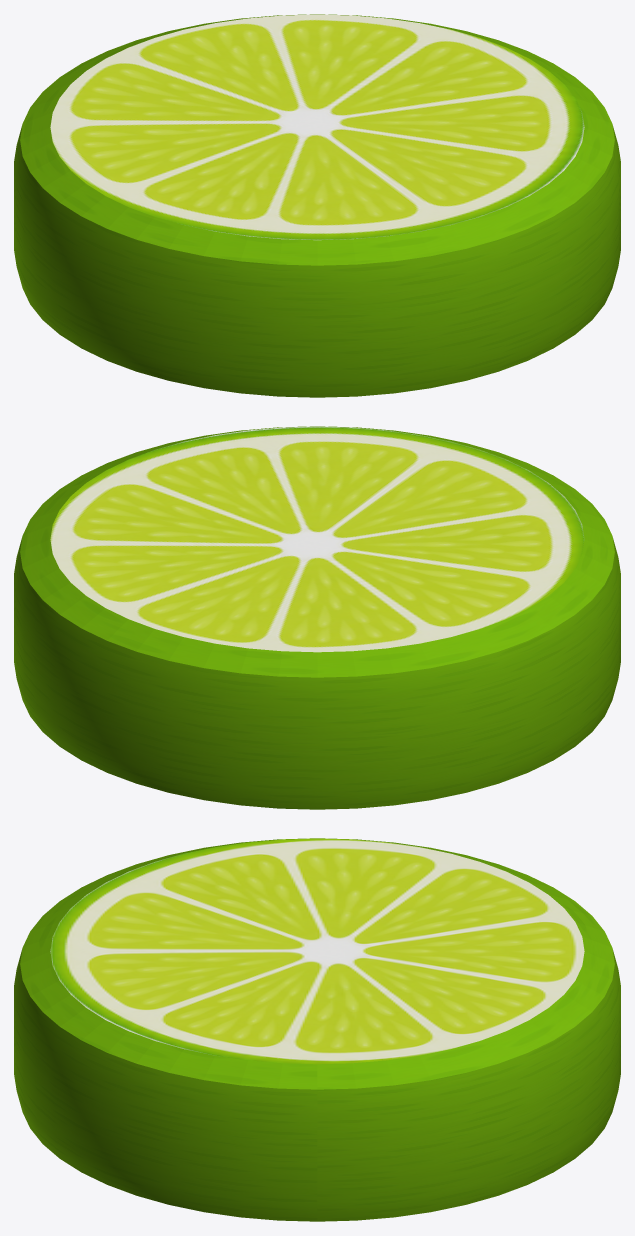
The model's file is lime_slice-DN6i4stt.glb.
3 renders of one model, top to bottom at view 1: azimuth 30°, elevation 25°; view 2: azimuth 150°, elevation 25°; view 3: azimuth 270°, elevation 25°, orthographic.
Parts seen in each view (by area): view 1: HI_lime_slice; view 2: HI_lime_slice; view 3: HI_lime_slice.
Boxes of the visible parts, x1,y1,x2,y2 form: HI_lime_slice: (14,14,620,397); HI_lime_slice: (14,426,620,809); HI_lime_slice: (14,838,620,1221).
Size of the model in its own units: 0.28 by 0.08 by 0.28.
1 material, 1 textured.
